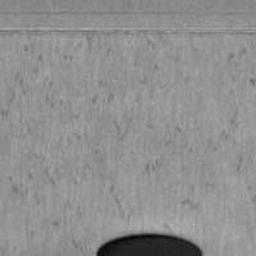Punching: (95, 233, 204, 256)
